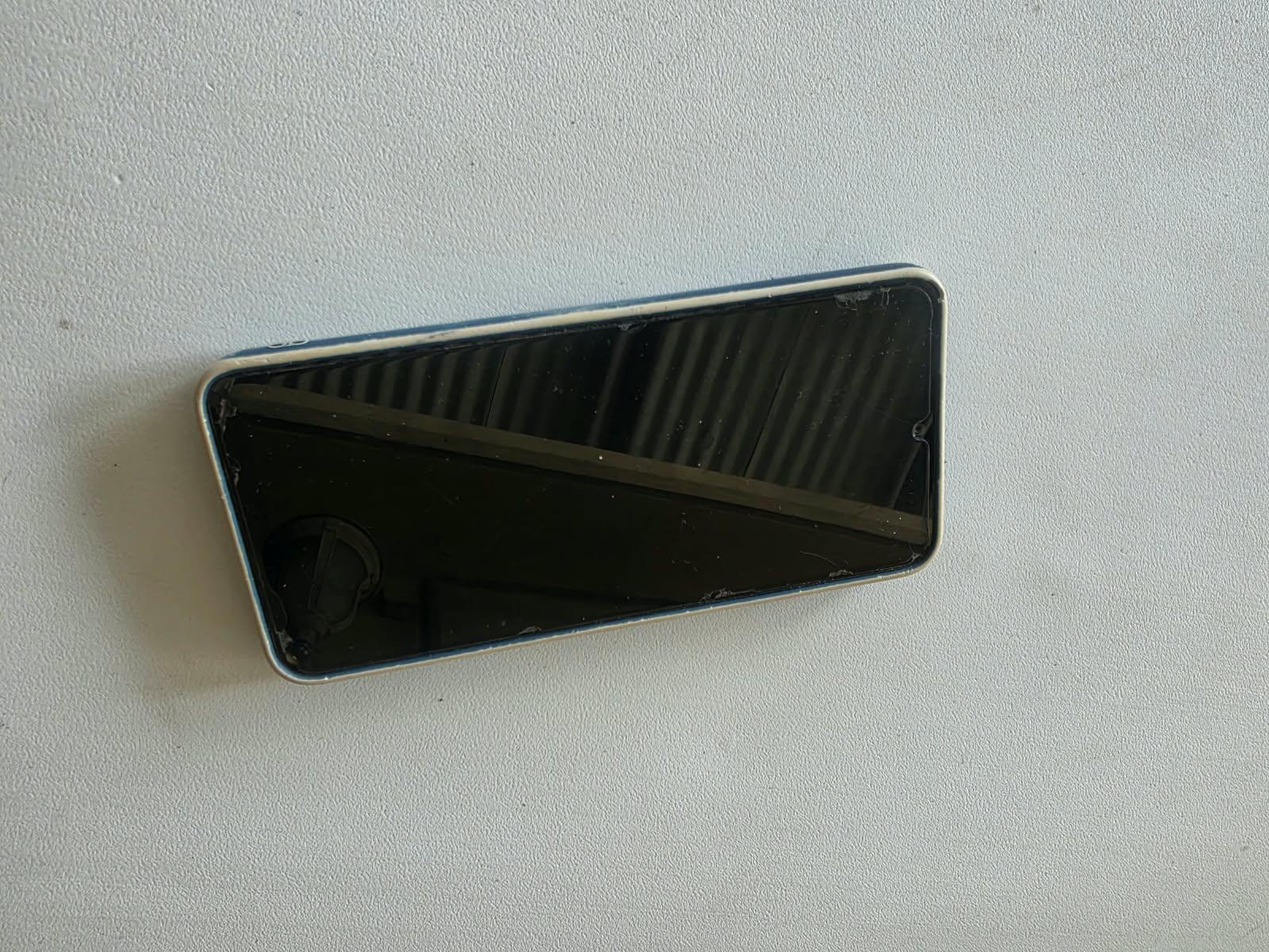smartphone: (195, 262, 949, 685)
